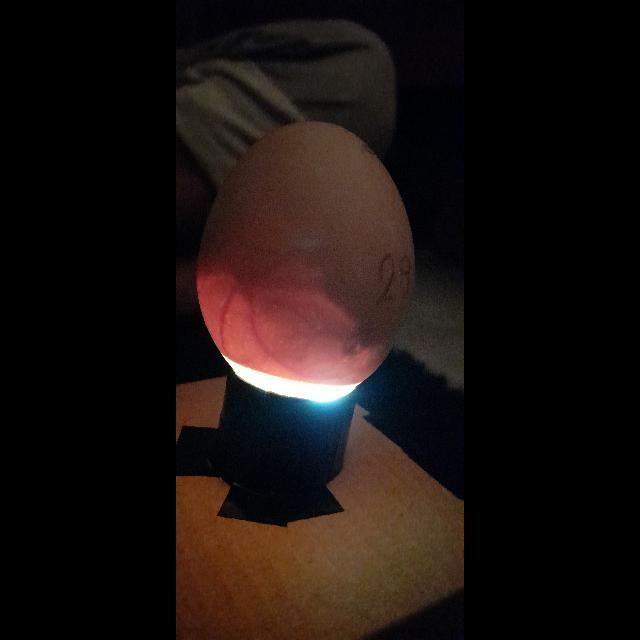Fertile: (200, 109, 414, 403)
